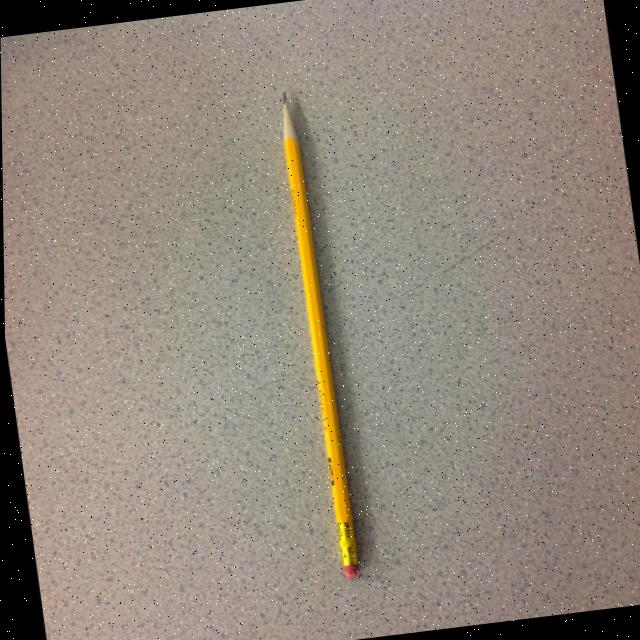pencil: (264, 75, 374, 587)
